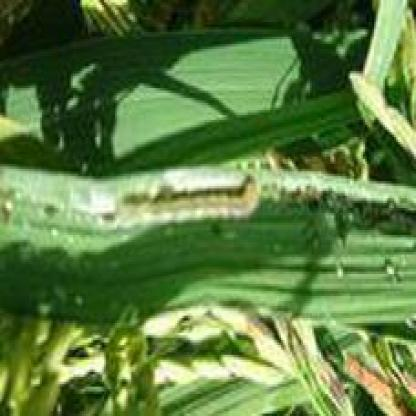leaf-folder: (108, 172, 267, 235)
